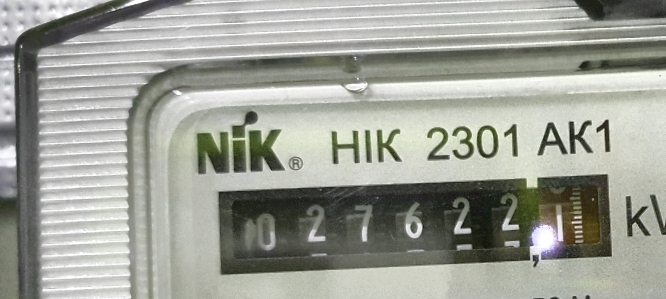0: (253, 209, 278, 252)
1: (550, 200, 567, 244)
2: (447, 194, 474, 236), (303, 201, 327, 245), (497, 190, 521, 232)
6: (401, 199, 424, 240)
7: (351, 201, 376, 245)
screen: (204, 163, 625, 281)
